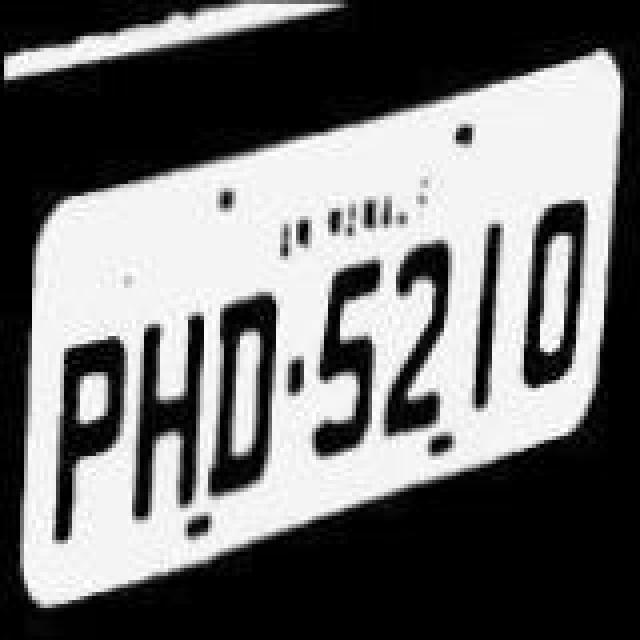1: (464, 190, 512, 426)
2: (380, 230, 452, 442)
5: (312, 250, 384, 466)
D: (210, 288, 282, 512)
H: (126, 290, 206, 538)
O: (516, 178, 588, 414)
P: (46, 324, 126, 564)
